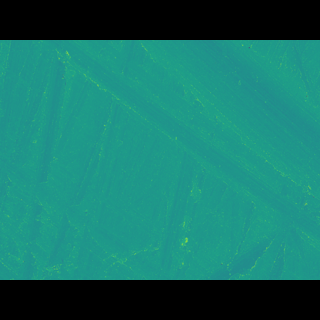Loch: (31, 69, 319, 228), (0, 152, 201, 251)
